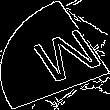M_SE: (12, 22, 98, 88)
